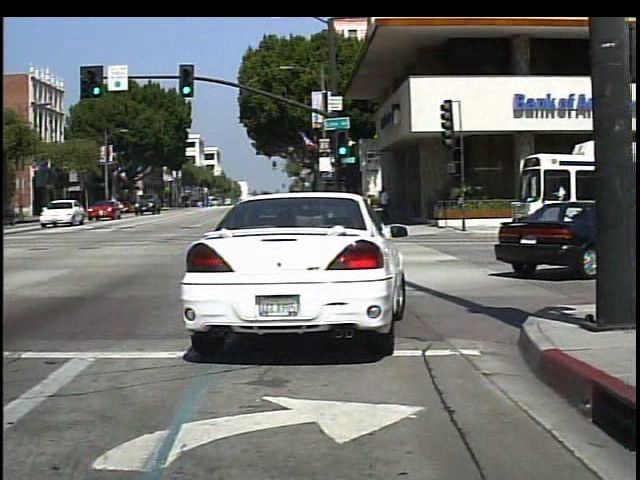person: (377, 183, 395, 224)
